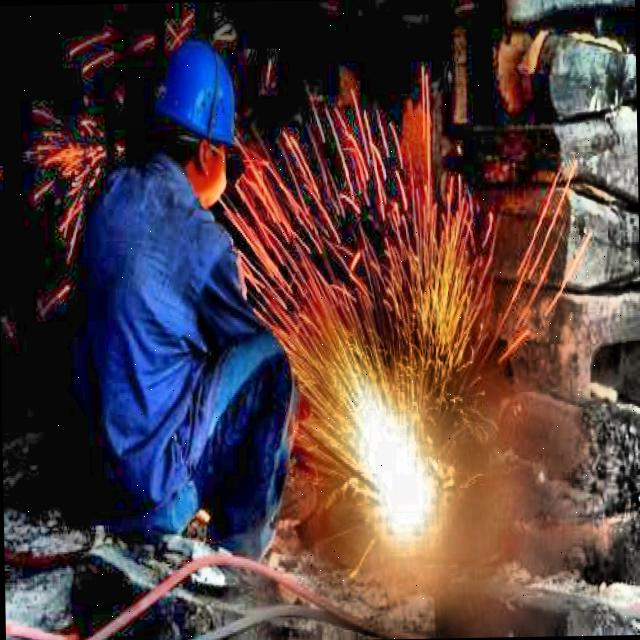helmet: (142, 31, 245, 210)
